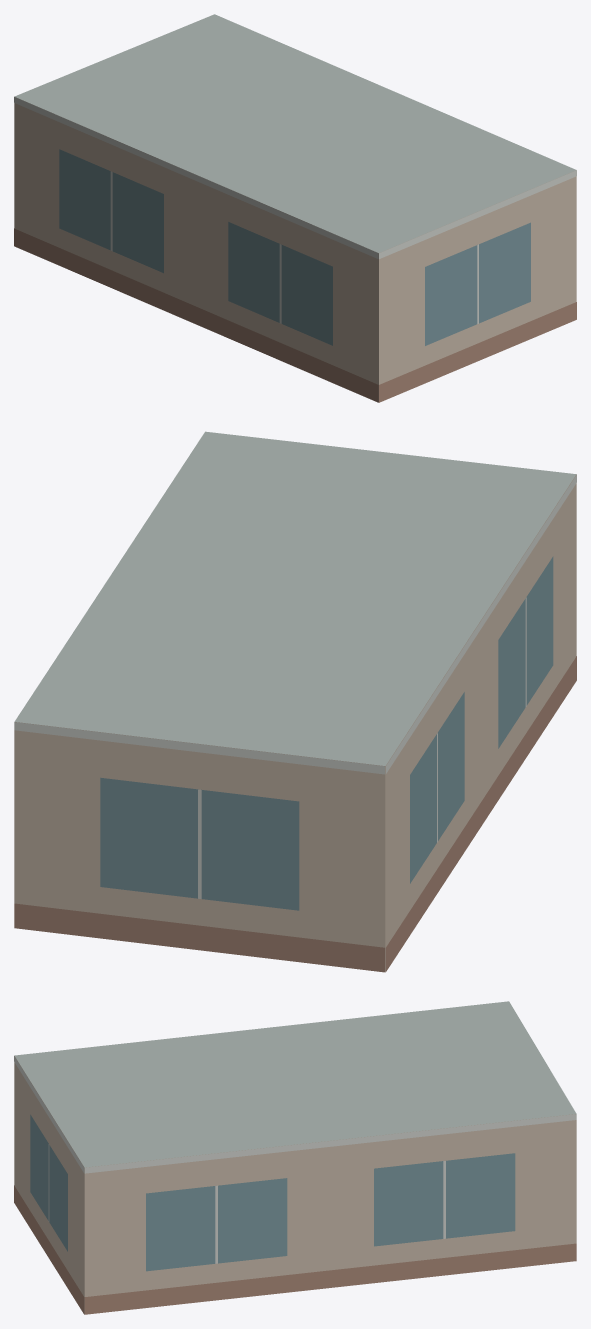
File: survey-upis-32694391.glb
3 views of the same model, one above another, from view 1: azimuth 30°, elevation 25°; view 2: azimuth 150°, elevation 25°; view 3: azimuth 270°, elevation 25° (orthographic). The views are drawn at different scales.
Parts seen in each view (by area): view 1: survey-upis-32694391.tmp; view 2: survey-upis-32694391.tmp; view 3: survey-upis-32694391.tmp.
Boxes of the visible parts, x1,y1,x2,y2 form: survey-upis-32694391.tmp: [14, 14, 576, 402]; survey-upis-32694391.tmp: [14, 431, 576, 972]; survey-upis-32694391.tmp: [14, 1001, 576, 1314].
Bounding box in the file's own units: 7.41 × 3.05 × 10.58.
